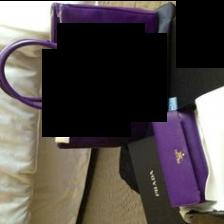purple: (49, 1, 158, 147), (153, 109, 201, 205)
